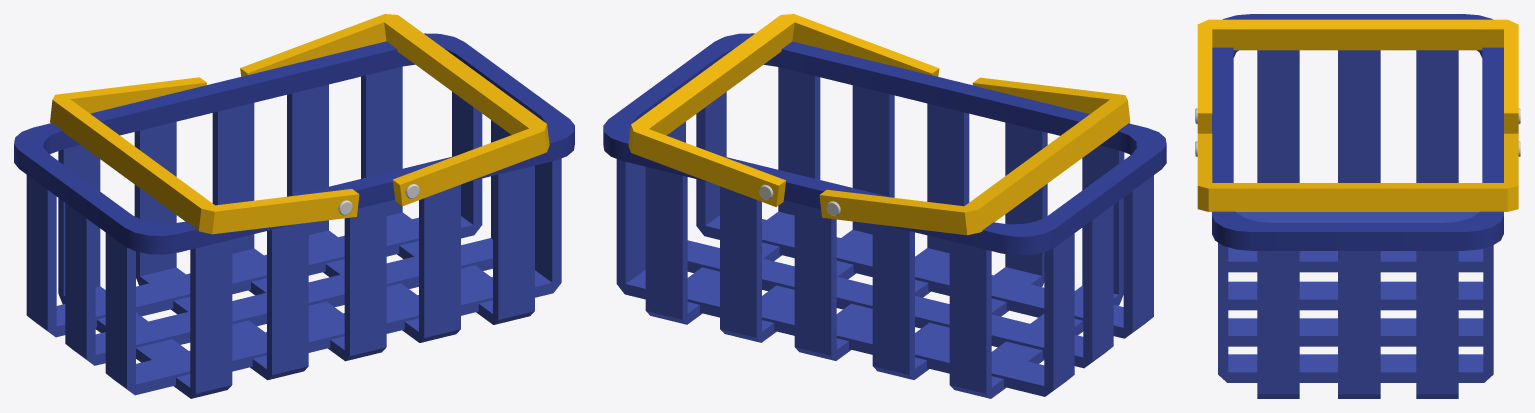
Rendered from Basket_3.fbx.
The picture shows the model from 3 angles, left to right: view 1: azimuth 30°, elevation 25°; view 2: azimuth 150°, elevation 25°; view 3: azimuth 270°, elevation 25°; orthographic projection.
Parts seen in each view (by area): view 1: Basket_3; view 2: Basket_3; view 3: Basket_3.
Part boxes in pixels (box(x1,y1,x2,y2)): Basket_3: box(14, 14, 574, 398); Basket_3: box(603, 14, 1166, 398); Basket_3: box(1195, 14, 1520, 398).
Bounding box in the file's own units: 31.11 × 13.17 × 19.63.
1 material, 1 textured.
